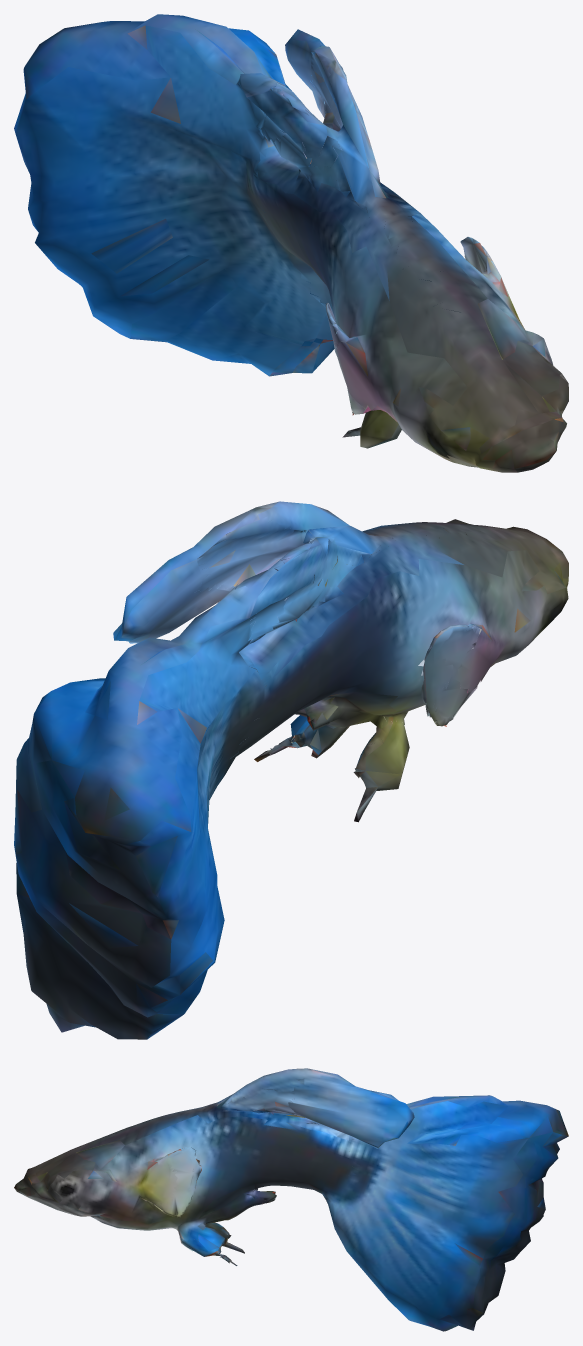
File: strain-tuxedo_blue.lo.glb
3 views of the same model, one above another, from view 1: azimuth 30°, elevation 25°; view 2: azimuth 150°, elevation 25°; view 3: azimuth 270°, elevation 25° (orthographic). The views are drawn at different scales.
Visible parts, largest first — view 1: Mesh_0.001; view 2: Mesh_0.001; view 3: Mesh_0.001.
Part boxes in pixels (bbox=[...]): Mesh_0.001: bbox=[14, 14, 568, 472]; Mesh_0.001: bbox=[14, 501, 568, 1039]; Mesh_0.001: bbox=[14, 1068, 568, 1331].
Bounding box in the file's own units: 0.0105 × 0.0178 × 0.036.
Materials: 2 (2 with a texture image).
